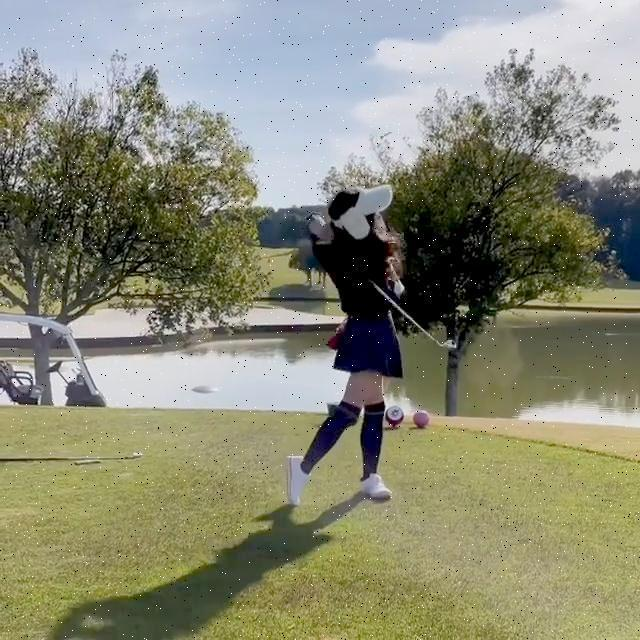ClubHead: (436, 339, 456, 348)
